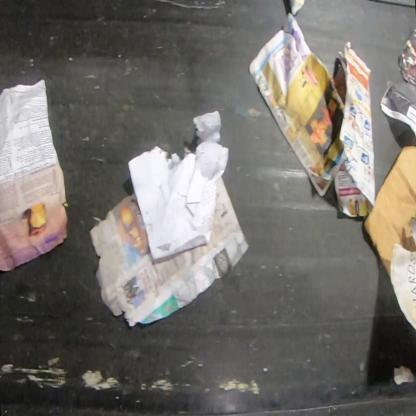cardboard: (363, 144, 415, 277)
